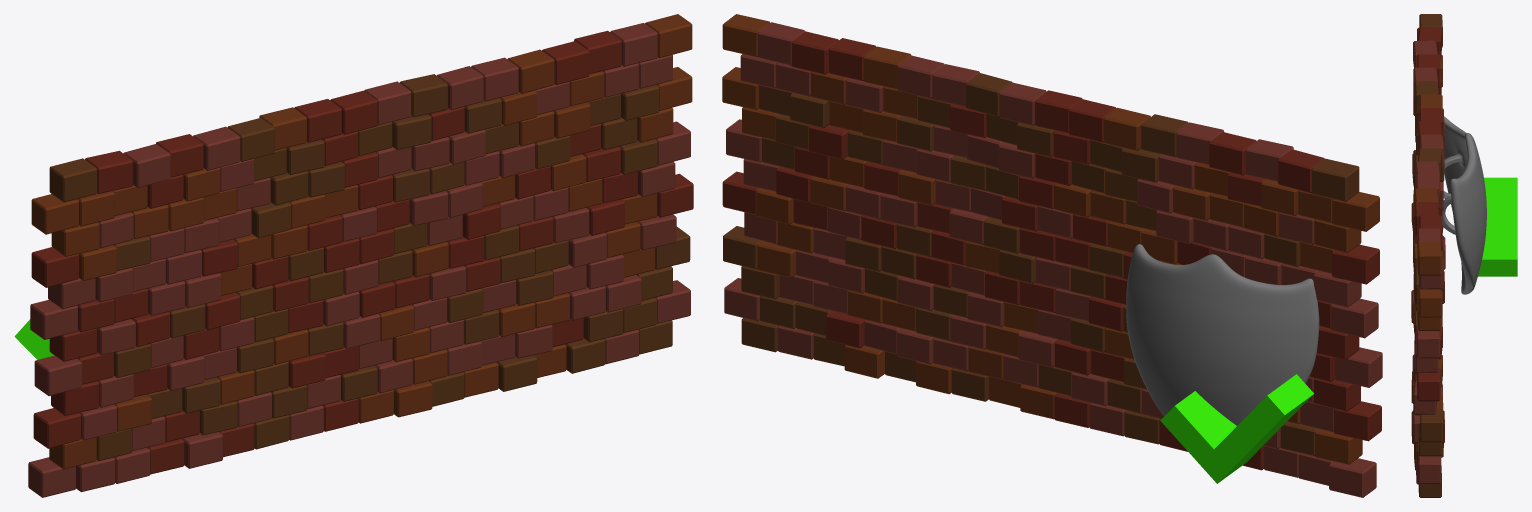
The model's file is firewall.glb.
3 renders of one model, left to right at view 1: azimuth 30°, elevation 25°; view 2: azimuth 150°, elevation 25°; view 3: azimuth 270°, elevation 25°, orthographic. The views are drawn at different scales.
Parts seen in each view (by area): view 1: Cube_M_Bricks_Var_3_0; view 2: Cube_M_Bricks_Var_3_0; view 3: Cube_M_Bricks_Var_3_0.
Boxes of the visible parts, bbox=[...] form: Cube_M_Bricks_Var_3_0: bbox=[14, 14, 693, 497]; Cube_M_Bricks_Var_3_0: bbox=[722, 14, 1382, 497]; Cube_M_Bricks_Var_3_0: bbox=[1411, 14, 1517, 497].
Size of the model in its own units: 3.73 by 1.75 by 0.6722.
